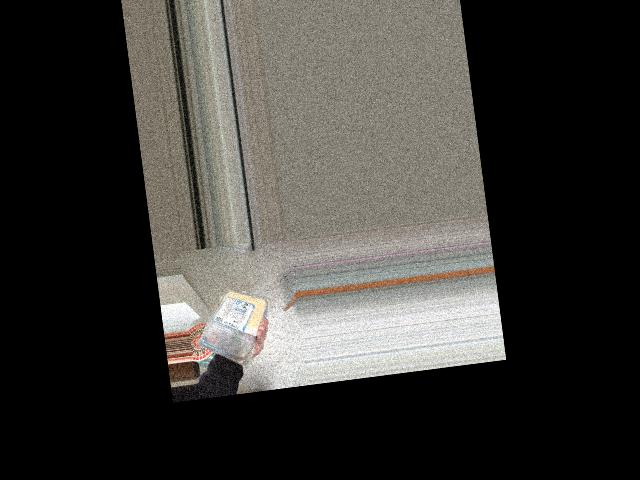cheese: (188, 284, 268, 353)
